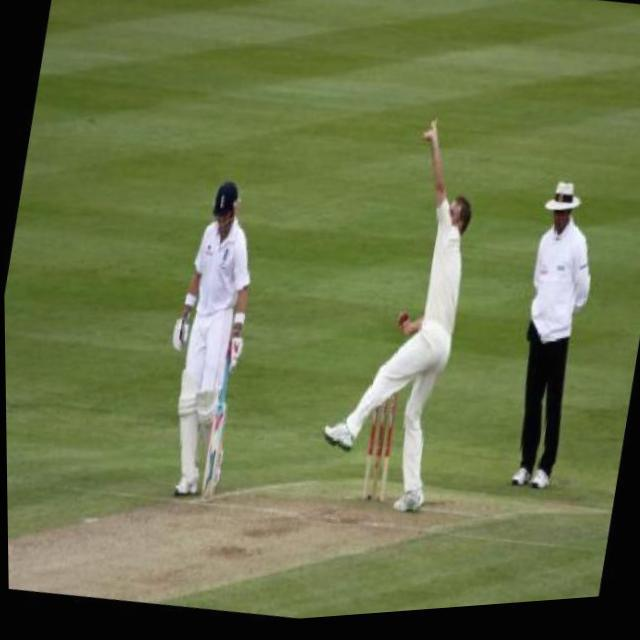-: (382, 298, 414, 351)
